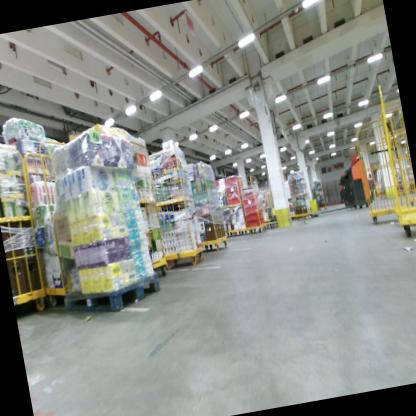pallet: (64, 271, 165, 321)
pallet_truck: (311, 154, 375, 215)
small_load_carrier: (220, 171, 245, 189), (238, 187, 258, 206), (241, 197, 261, 215), (225, 181, 246, 195), (243, 211, 263, 223), (244, 219, 264, 231), (227, 196, 244, 206), (226, 189, 242, 199)
